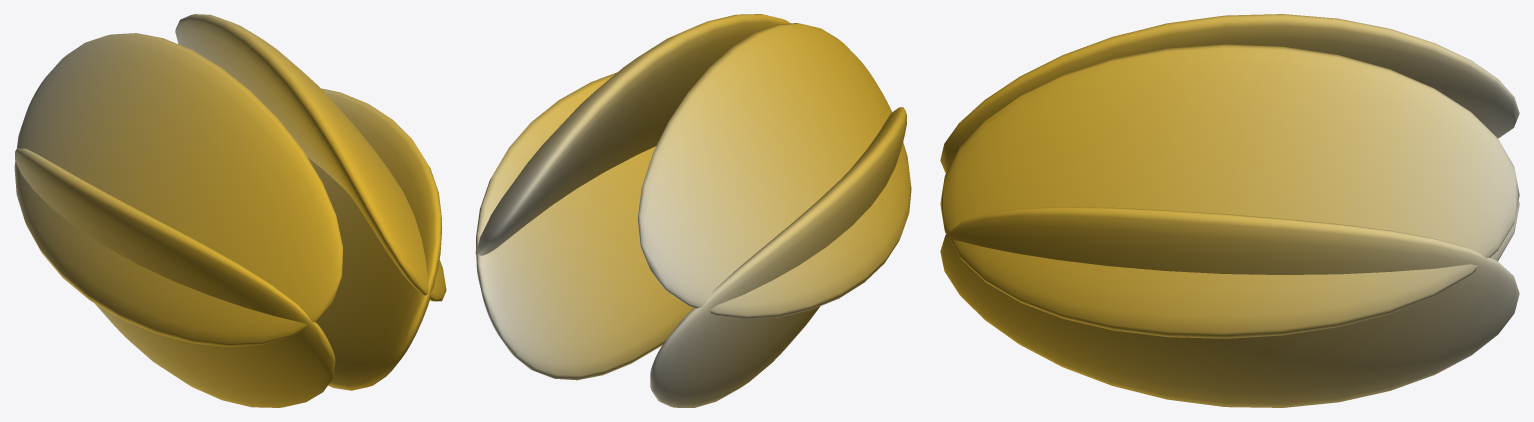
Rendered from seedpod-starfighter-1-spinner.obj.
3 views of the same model, side by side, from view 1: azimuth 30°, elevation 25°; view 2: azimuth 150°, elevation 25°; view 3: azimuth 270°, elevation 25° (orthographic). The views are drawn at different scales.
Parts seen in each view (by area): view 1: spinner; view 2: spinner; view 3: spinner.
Part boxes in pixels (bbox=[...]): spinner: bbox=[14, 14, 446, 407]; spinner: bbox=[475, 14, 911, 407]; spinner: bbox=[940, 14, 1519, 407].
Size of the model in its own units: 81.75 by 77.36 by 117.
